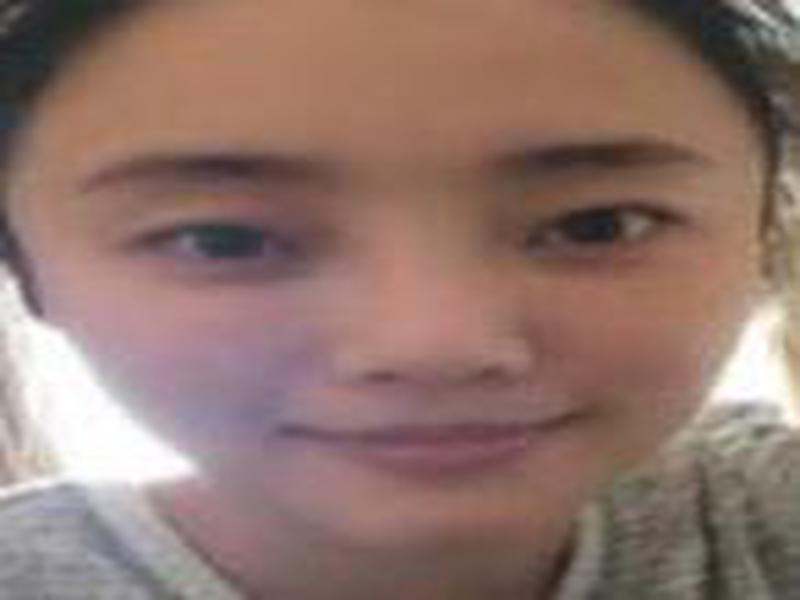without_mask: (2, 75, 767, 538)
